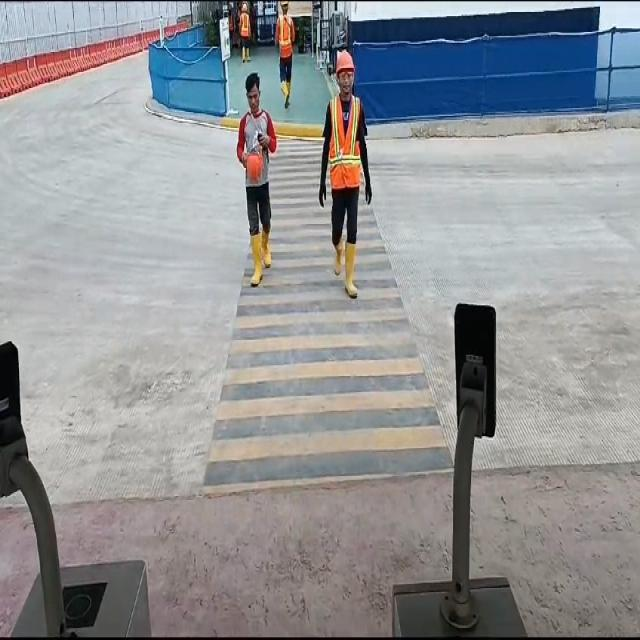helmet: (247, 154, 265, 183), (339, 52, 355, 71)
safety_vest: (331, 100, 362, 194), (278, 16, 292, 57), (240, 13, 251, 38)
